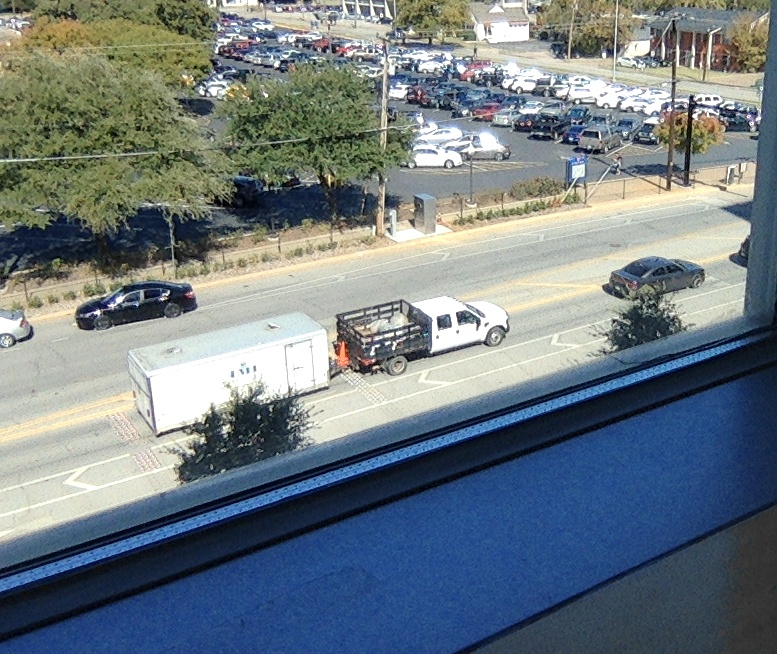car: (300, 300, 477, 391)
